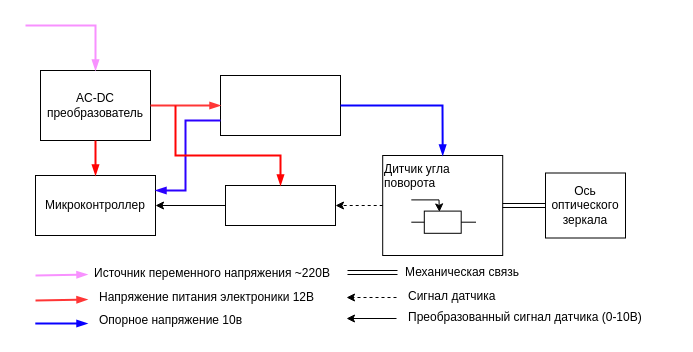
The diagram is 693 pixels wide and 352 high, and some of its shapes have lost their labels. Here are the shapes that lost their labels. From the top down, the centre of each, then its label:
At point (280, 105): "Источник опорного напряжения".
At point (280, 205): "Преобразователь сигнала".
